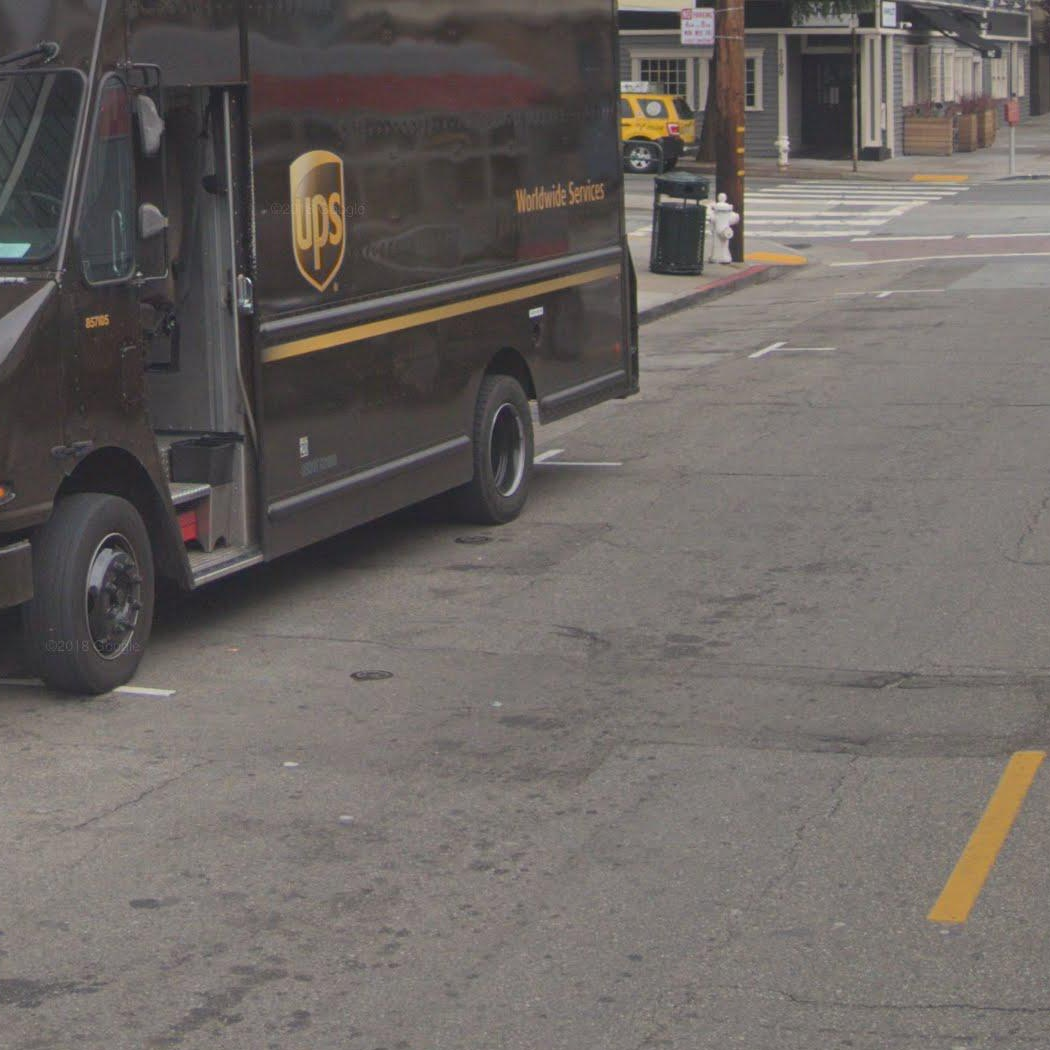No Parking: (679, 7, 715, 45)
